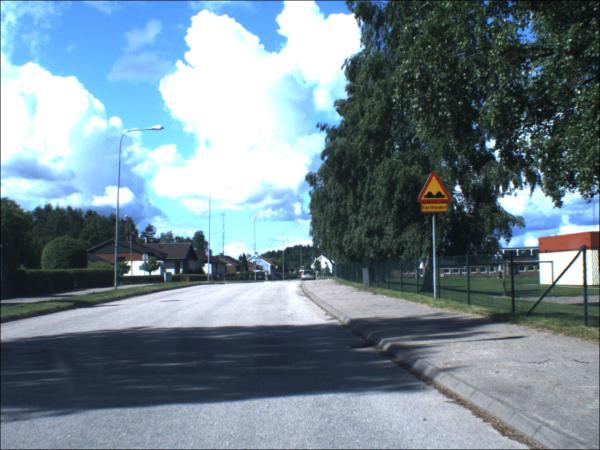WARNING: (418, 173, 454, 207)
